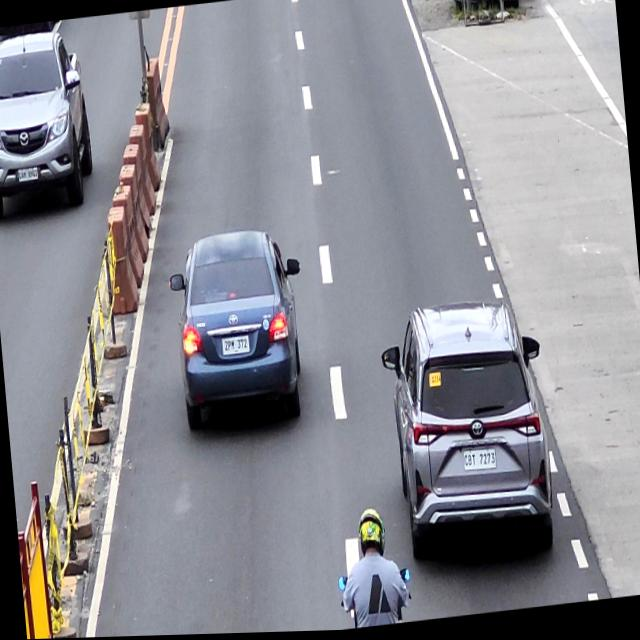Car: (378, 294, 556, 579), (166, 222, 313, 438)
License-Plate: (462, 449, 496, 476), (220, 337, 250, 355)
